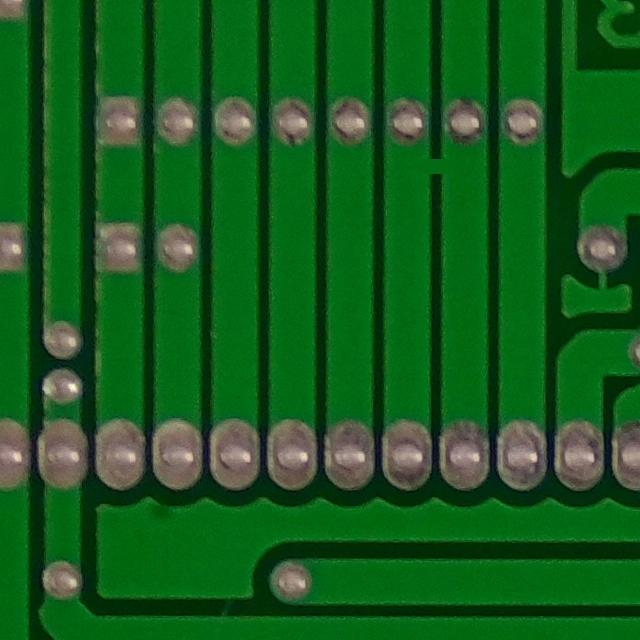short: (406, 117, 479, 197)
